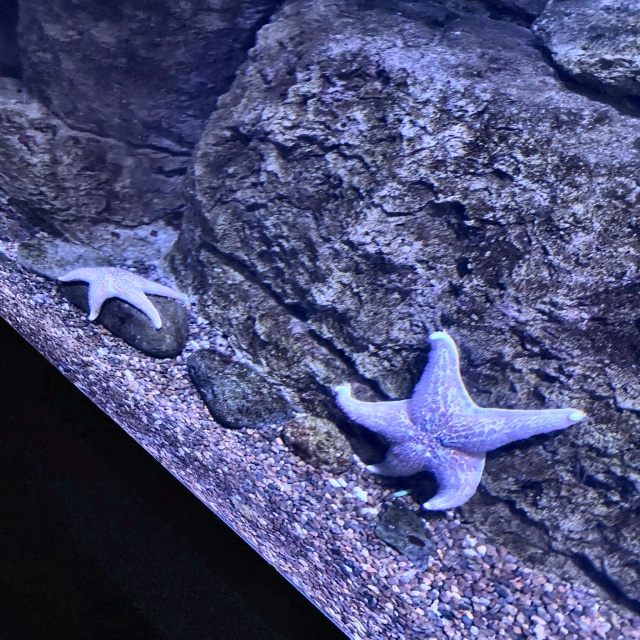starfish: (334, 332, 584, 510), (58, 266, 186, 330)
